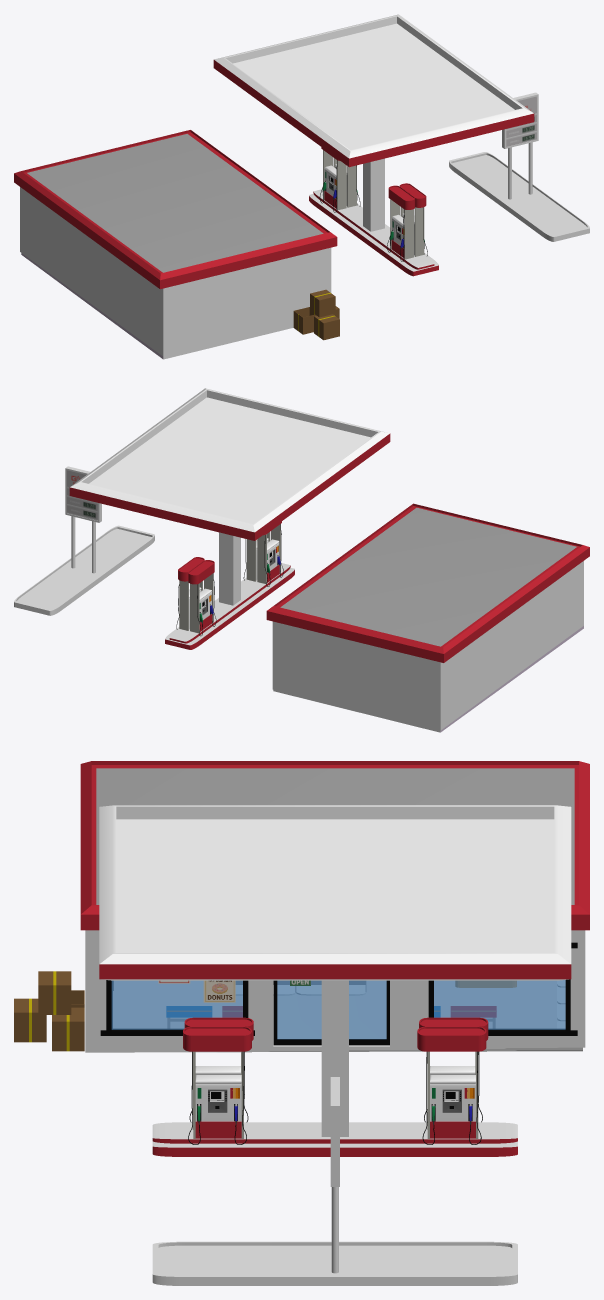
File: lowpoly_gas_station.glb
3 views of the same model, one above another, from view 1: azimuth 30°, elevation 25°; view 2: azimuth 150°, elevation 25°; view 3: azimuth 270°, elevation 25° (orthographic). The views are drawn at different scales.
Parts seen in each view (by area): view 1: Store, Gas_Pumps, Sign, Box_Open; view 2: Store, Gas_Pumps, Sign; view 3: Gas_Pumps, Store, Sign, Box_Open, Door2, Door, Shelf.002, DisplayShelf1, Sign2, DisplayShelf2.
Part boxes in pixels (left/top/right/bottom): Store: left=14, top=130, right=337, bottom=359; Gas_Pumps: left=213, top=14, right=534, bottom=276; Sign: left=449, top=92, right=589, bottom=241; Box_Open: left=293, top=289, right=339, bottom=340; Store: left=266, top=503, right=589, bottom=732; Gas_Pumps: left=69, top=388, right=390, bottom=649; Sign: left=14, top=466, right=154, bottom=615; Gas_Pumps: left=99, top=805, right=571, bottom=1156; Store: left=80, top=761, right=589, bottom=1052; Sign: left=152, top=1077, right=517, bottom=1285; Box_Open: left=14, top=971, right=84, bottom=1051; Door2: left=273, top=980, right=321, bottom=1045; Door: left=349, top=980, right=389, bottom=1045; Shelf.002: left=236, top=981, right=365, bottom=995; DisplayShelf1: left=166, top=1006, right=242, bottom=1028; Sign2: left=203, top=980, right=235, bottom=1002; DisplayShelf2: left=434, top=1006, right=496, bottom=1028.
Bounding box in the file's own units: 31.11 × 10.17 × 19.65.
5 materials, 5 textured.
